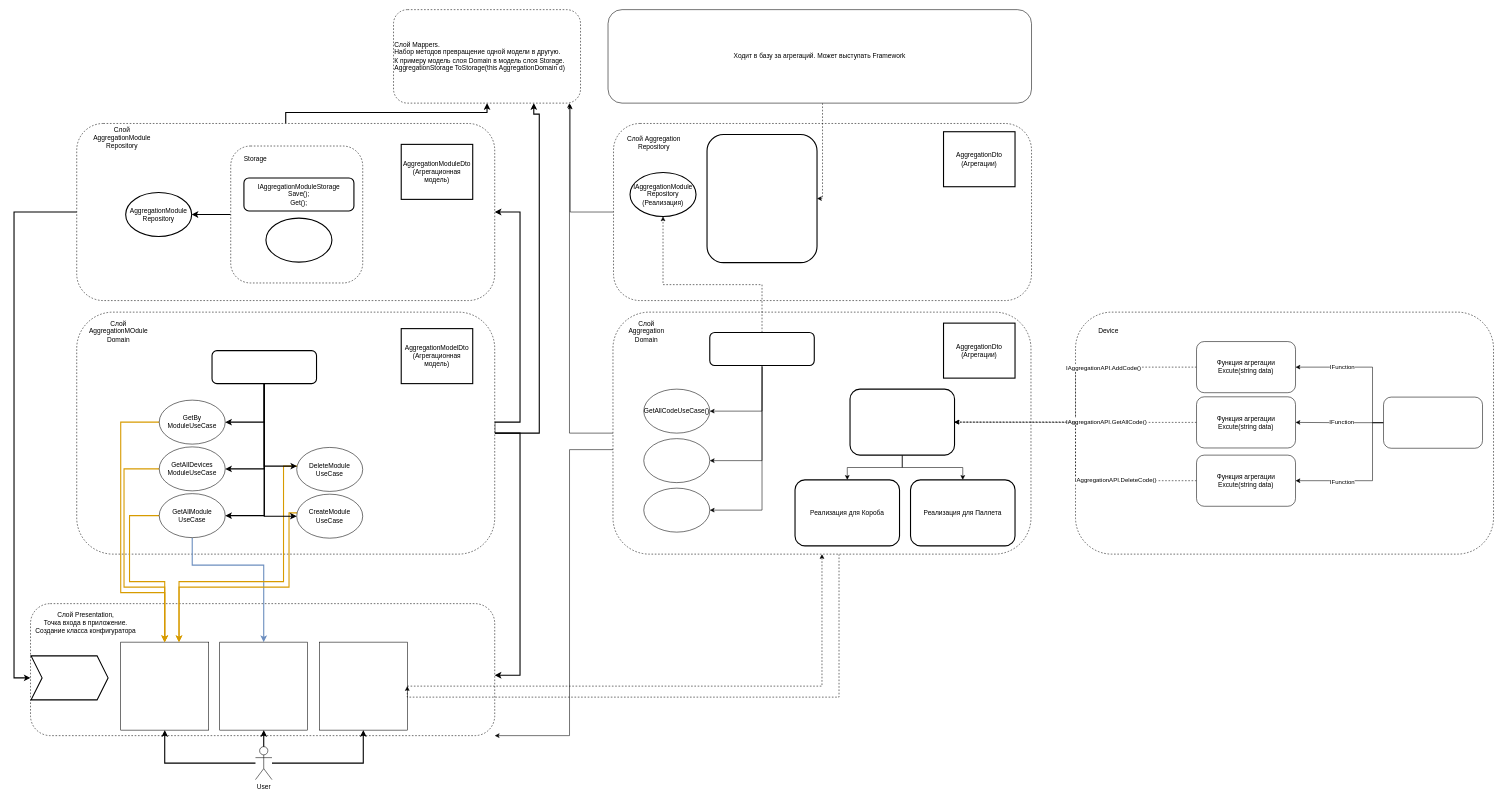
Image size: 1503x801. Some labels were removed from this diagram. The box of each missing label's shape, as (x1, y1, x2, y2) in pixels:
Aggregation configurator: (120, 642, 209, 730)
AggregationModule: (319, 642, 407, 730)
AggregationModule Storage: (265, 217, 332, 262)
IAggregationAPI AddCode() DeleteCode() GetCode() GetAllCode(): (849, 388, 955, 455)
IAggregationModel: (709, 332, 815, 366)
IAggregationModule Repository: (211, 350, 317, 384)
IAggregationModuleStorage AddCode() DeleteCode() List<CodeBase> GetAllCode(): (706, 134, 817, 263)
Mnemo: (219, 642, 308, 730)
Сканер, камера или прочее устройство агрегации: (1383, 397, 1483, 448)
Создание зависимостей. DI контейнер: (30, 655, 108, 700)
